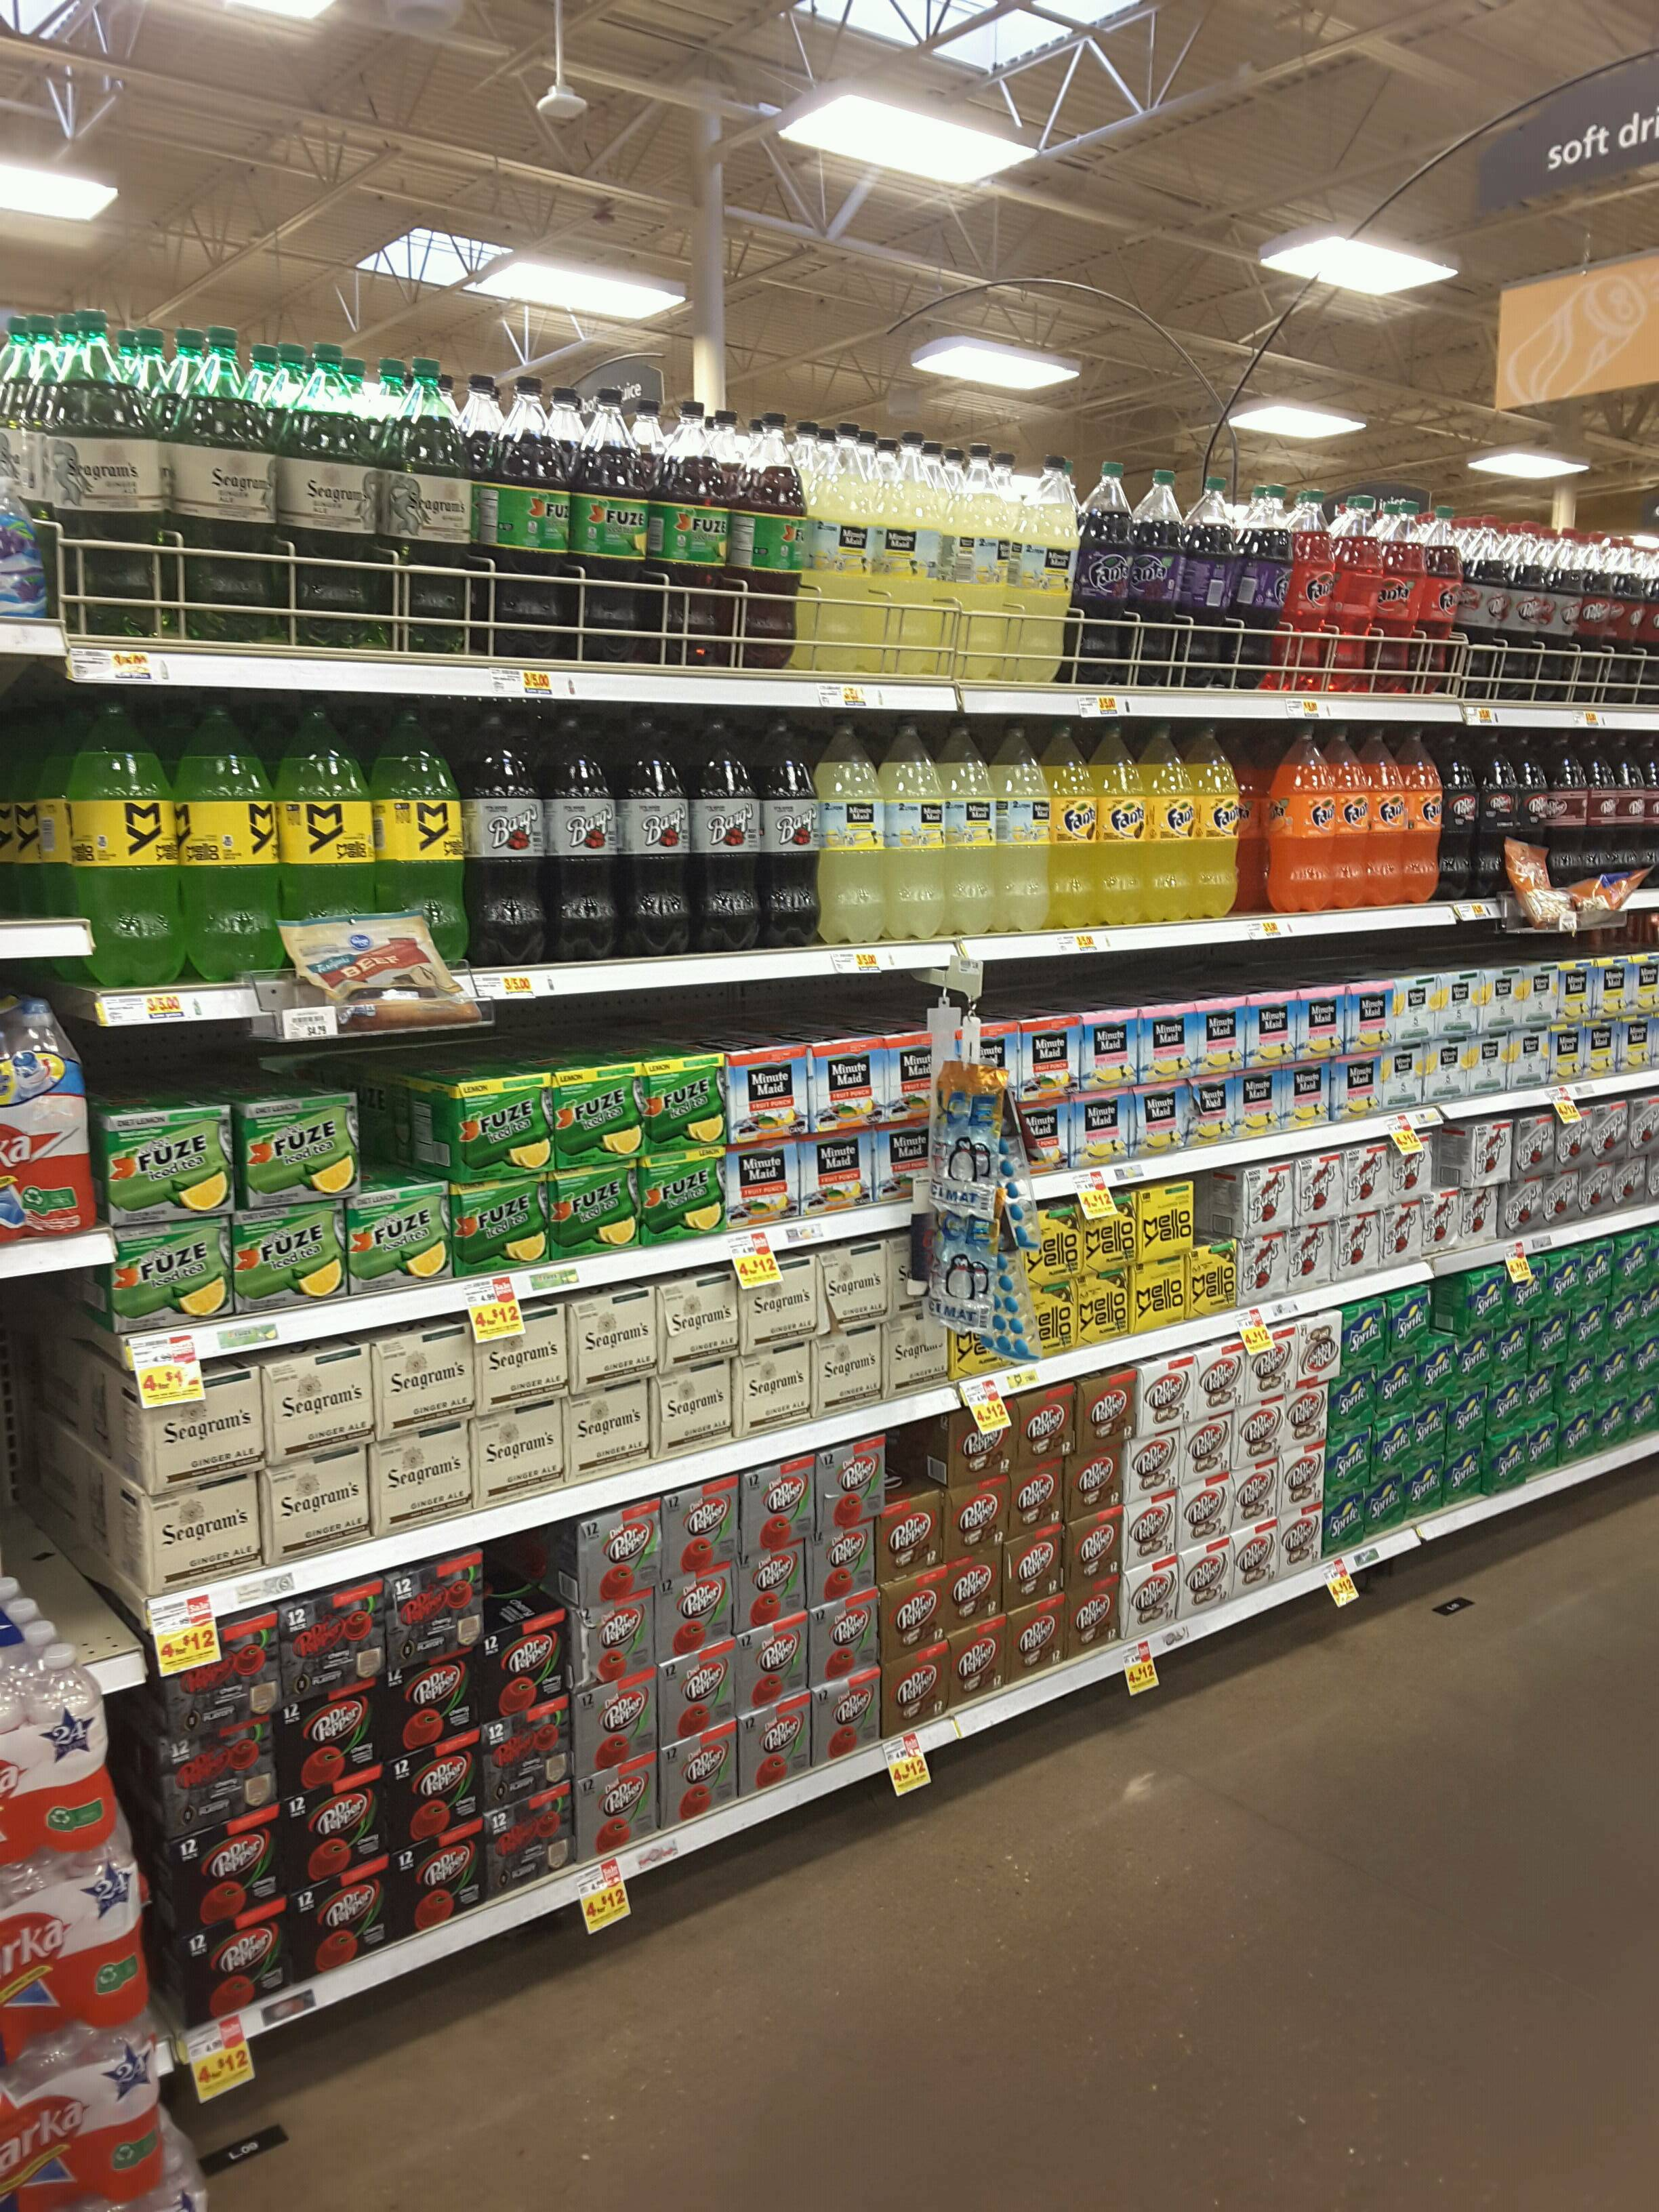Misplacement: (474, 1536, 575, 1904), (877, 1428, 951, 1747), (352, 1071, 457, 1284), (1192, 1167, 1248, 1332), (1422, 1129, 1467, 1256)
